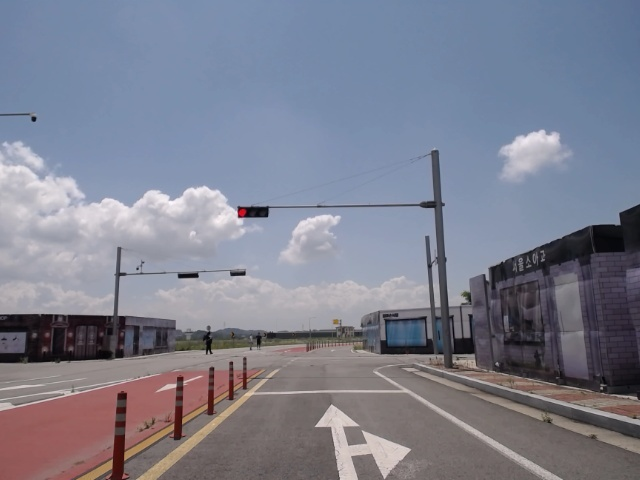red_3: (237, 207, 270, 219)
